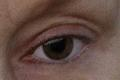eye: (43, 36, 74, 60)
